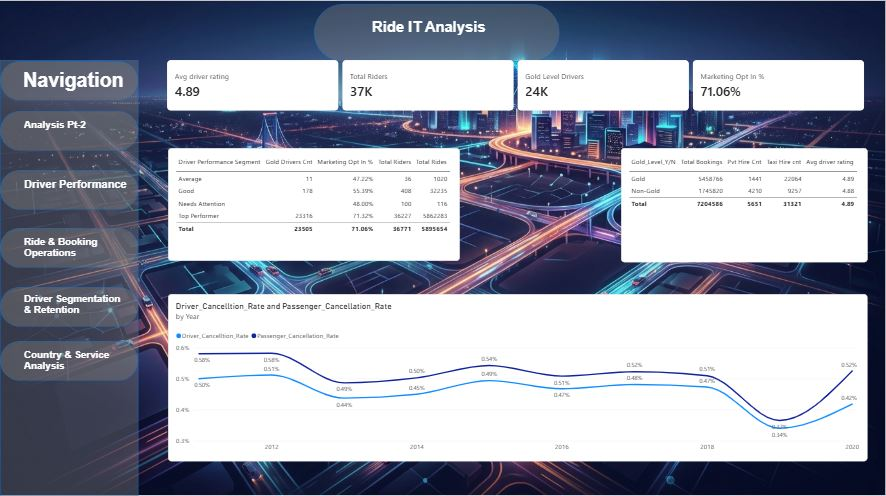

This screenshot's page, from the dashboard's own definition file:
{"tool":"powerbi","page":{"name":"Driver Performance","canvas":[1920,1080],"ordinal":2},"visuals":[{"type":"image","box":[0,0,1920,1080],"z":0},{"type":"shape","box":[680,10,532.5,125],"z":0,"group":"g7"},{"type":"shape","box":[0,370,300,86],"z":9,"group":"g2"},{"type":"shape","box":[0,497.5,300,86],"z":10,"group":"g1"},{"type":"shape","box":[0,625,300,86],"z":11,"group":"g4"},{"type":"shape","box":[0,742.5,300,86],"z":12,"group":"g5"},{"type":"shape","box":[0,242.5,300,86],"z":13,"group":"g9"},{"type":"textbox","box":[52,388,224,52],"z":14,"group":"g2"},{"type":"textbox","box":[52,515.5,224,52],"z":15,"group":"g1"},{"type":"textbox","box":[52,639,224,52],"z":16,"group":"g4"},{"type":"textbox","box":[52,759.5,224,52],"z":17,"group":"g5"},{"type":"textbox","box":[52,259.5,224,52],"z":18,"group":"g9"},{"type":"group","id":"g1","title":"Group 3","box":[0,497.5,300,86],"z":21,"group":"g3"},{"type":"textbox","box":[805,42.5,300,62.5],"z":1000,"group":"g7"},{"type":"shape","box":[0,132.5,300,946],"z":1000},{"type":"shape","box":[0,134,300,86],"z":2000,"group":"g8"},{"type":"group","id":"g2","title":"Group 1","box":[0,370,300,87.5],"z":2000},{"type":"textbox","box":[50,152,224,52],"z":3000,"group":"g8"},{"type":"group","id":"g3","title":"Group 2","box":[0,497.5,300,85],"z":3000},{"type":"group","id":"g4","title":"Group 4","box":[0,625,300,85],"z":4000},{"type":"group","id":"g5","title":"Group 5","box":[0,742.5,300,85],"z":5000},{"type":"group","id":"g6","title":"Group 6","box":[0,242.5,300,87.5],"z":6000},{"type":"group","id":"g7","title":"Group 8","box":[680,10,532.5,125],"z":7000},{"type":"group","id":"g8","title":"Group 9","box":[0,134,300,86],"z":8000},{"type":"cardVisual","fields":{"Data":["Measures_Own.Average of rating","Measures_Own.Total Riders","Measures_Own.Gold Level Drivers","Measures_Own.Marketing Opt In %"]},"box":[362.2,132.3,1515.9,110.6],"z":9000},{"type":"tableEx","fields":{"Values":["rideit_drivers.Driver Performance Segment","Measures_Own.Gold Drivers Cnt","Measures_Own.Marketing Opt In %","Measures_Own.Total Riders","Measures_Own.Total Rides"]},"box":[363.3,323.3,632.5,245],"z":10000},{"type":"group","id":"g9","title":"Group 7","box":[0,242.5,300,86],"z":10001,"group":"g6"},{"type":"tableEx","fields":{"Values":["rideit_drivers.Gold_Level_Y/N","Measures_Own.Total Bookings","Measures_Own.Pvt Hire Cnt","Measures_Own.Taxi Hire cnt","Measures_Own.Avg driver rating"]},"box":[1346.7,323.3,535,247.5],"z":11000},{"type":"lineChart","fields":{"Category":["rideit_drivers.date_registration.Variation.Date Hierarchy.Year"],"Y":["Measures_Own.Driver_Cancelltion_Rate","Measures_Own.Passenger_Cancellation_Rate"]},"box":[363.3,640,1516.7,363.3],"z":12000}]}

Visuals, with their boxes in screenshot pixels (x1, y1, x2, y2), scaled from the page's 1920x1080 canvas onto the 886x496 screenshot:
image: BBox(0, 0, 885, 495)
shape: BBox(314, 5, 560, 62)
shape: BBox(0, 170, 138, 209)
shape: BBox(0, 228, 138, 268)
shape: BBox(0, 287, 138, 327)
shape: BBox(0, 341, 138, 380)
shape: BBox(0, 111, 138, 151)
textbox: BBox(24, 178, 127, 202)
textbox: BBox(24, 237, 127, 261)
textbox: BBox(24, 293, 127, 317)
textbox: BBox(24, 349, 127, 373)
textbox: BBox(24, 119, 127, 143)
"Group 3" group: BBox(0, 228, 138, 268)
textbox: BBox(371, 20, 510, 48)
shape: BBox(0, 61, 138, 495)
shape: BBox(0, 62, 138, 101)
"Group 1" group: BBox(0, 170, 138, 210)
textbox: BBox(23, 70, 126, 94)
"Group 2" group: BBox(0, 228, 138, 268)
"Group 4" group: BBox(0, 287, 138, 326)
"Group 5" group: BBox(0, 341, 138, 380)
"Group 6" group: BBox(0, 111, 138, 152)
"Group 8" group: BBox(314, 5, 560, 62)
"Group 9" group: BBox(0, 62, 138, 101)
cardVisual - Measures_Own.Average of rating x Measures_Own.Total Riders: BBox(167, 61, 867, 112)
tableEx - rideit_drivers.Driver Performance Segment x Measures_Own.Gold Drivers Cnt: BBox(168, 148, 460, 261)
"Group 7" group: BBox(0, 111, 138, 151)
tableEx - rideit_drivers.Gold_Level_Y/N x Measures_Own.Total Bookings: BBox(621, 148, 868, 262)
lineChart - rideit_drivers.date_registration.Variation.Date Hierarchy.Year x Measures_Own.Driver_Cancelltion_Rate: BBox(168, 294, 868, 461)
